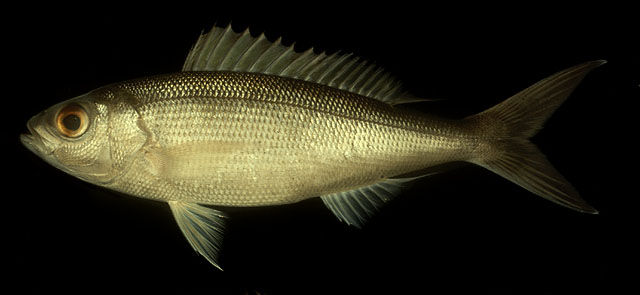fish: (19, 24, 607, 272)
